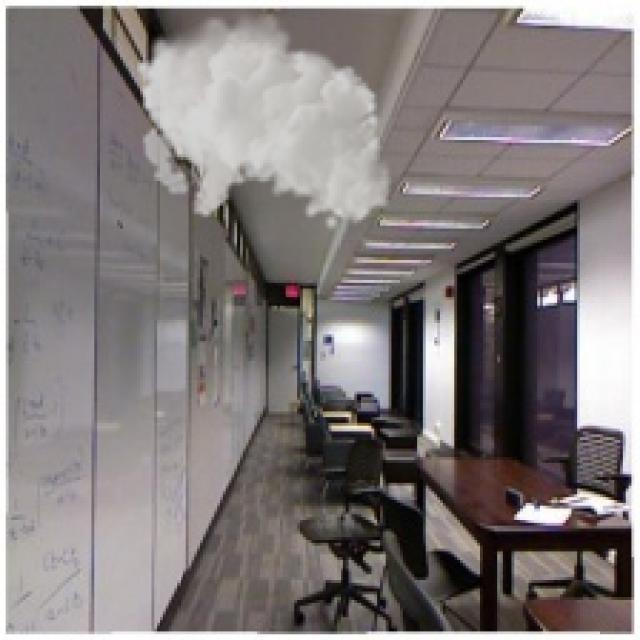Smoke: (134, 5, 392, 232)
